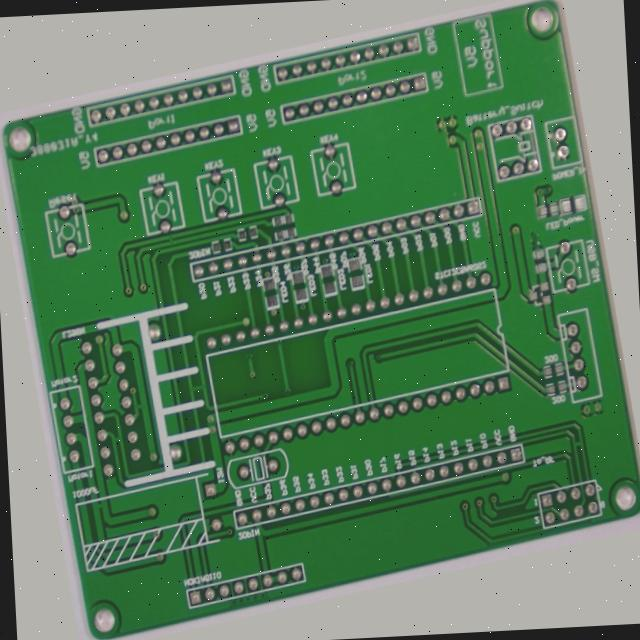short: (166, 364, 189, 382), (103, 372, 122, 391), (157, 187, 176, 206), (75, 406, 92, 426), (578, 503, 594, 522)
